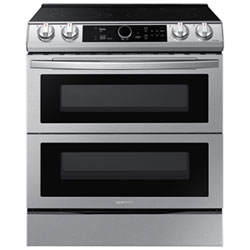stove: (21, 7, 231, 250)
